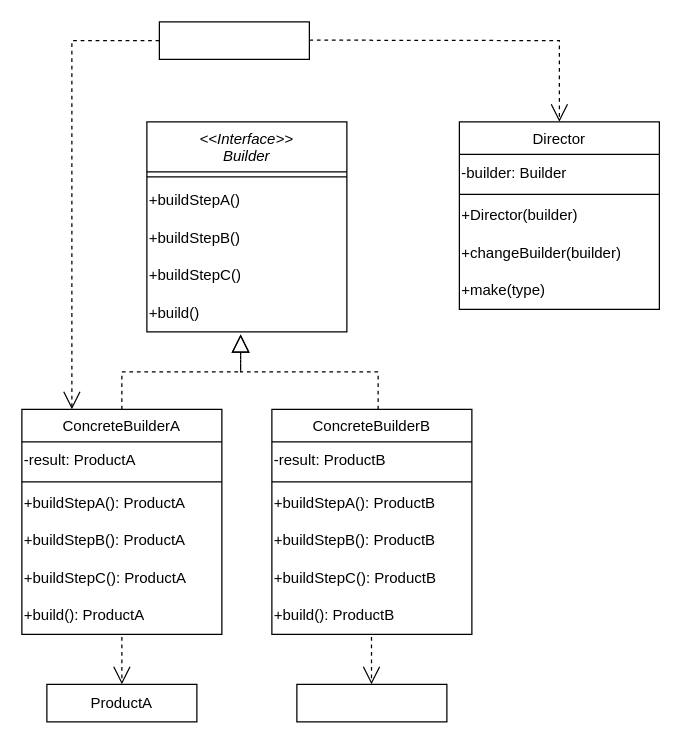
Some shapes in this 681 by 744 pixel diagram are drawn without their labels. The shapes that lost their labels are listed below. From the top down, each one's centre as x and y in pixels, then its label:
(x=233, y=40): Client
(x=371, y=702): ProductB
